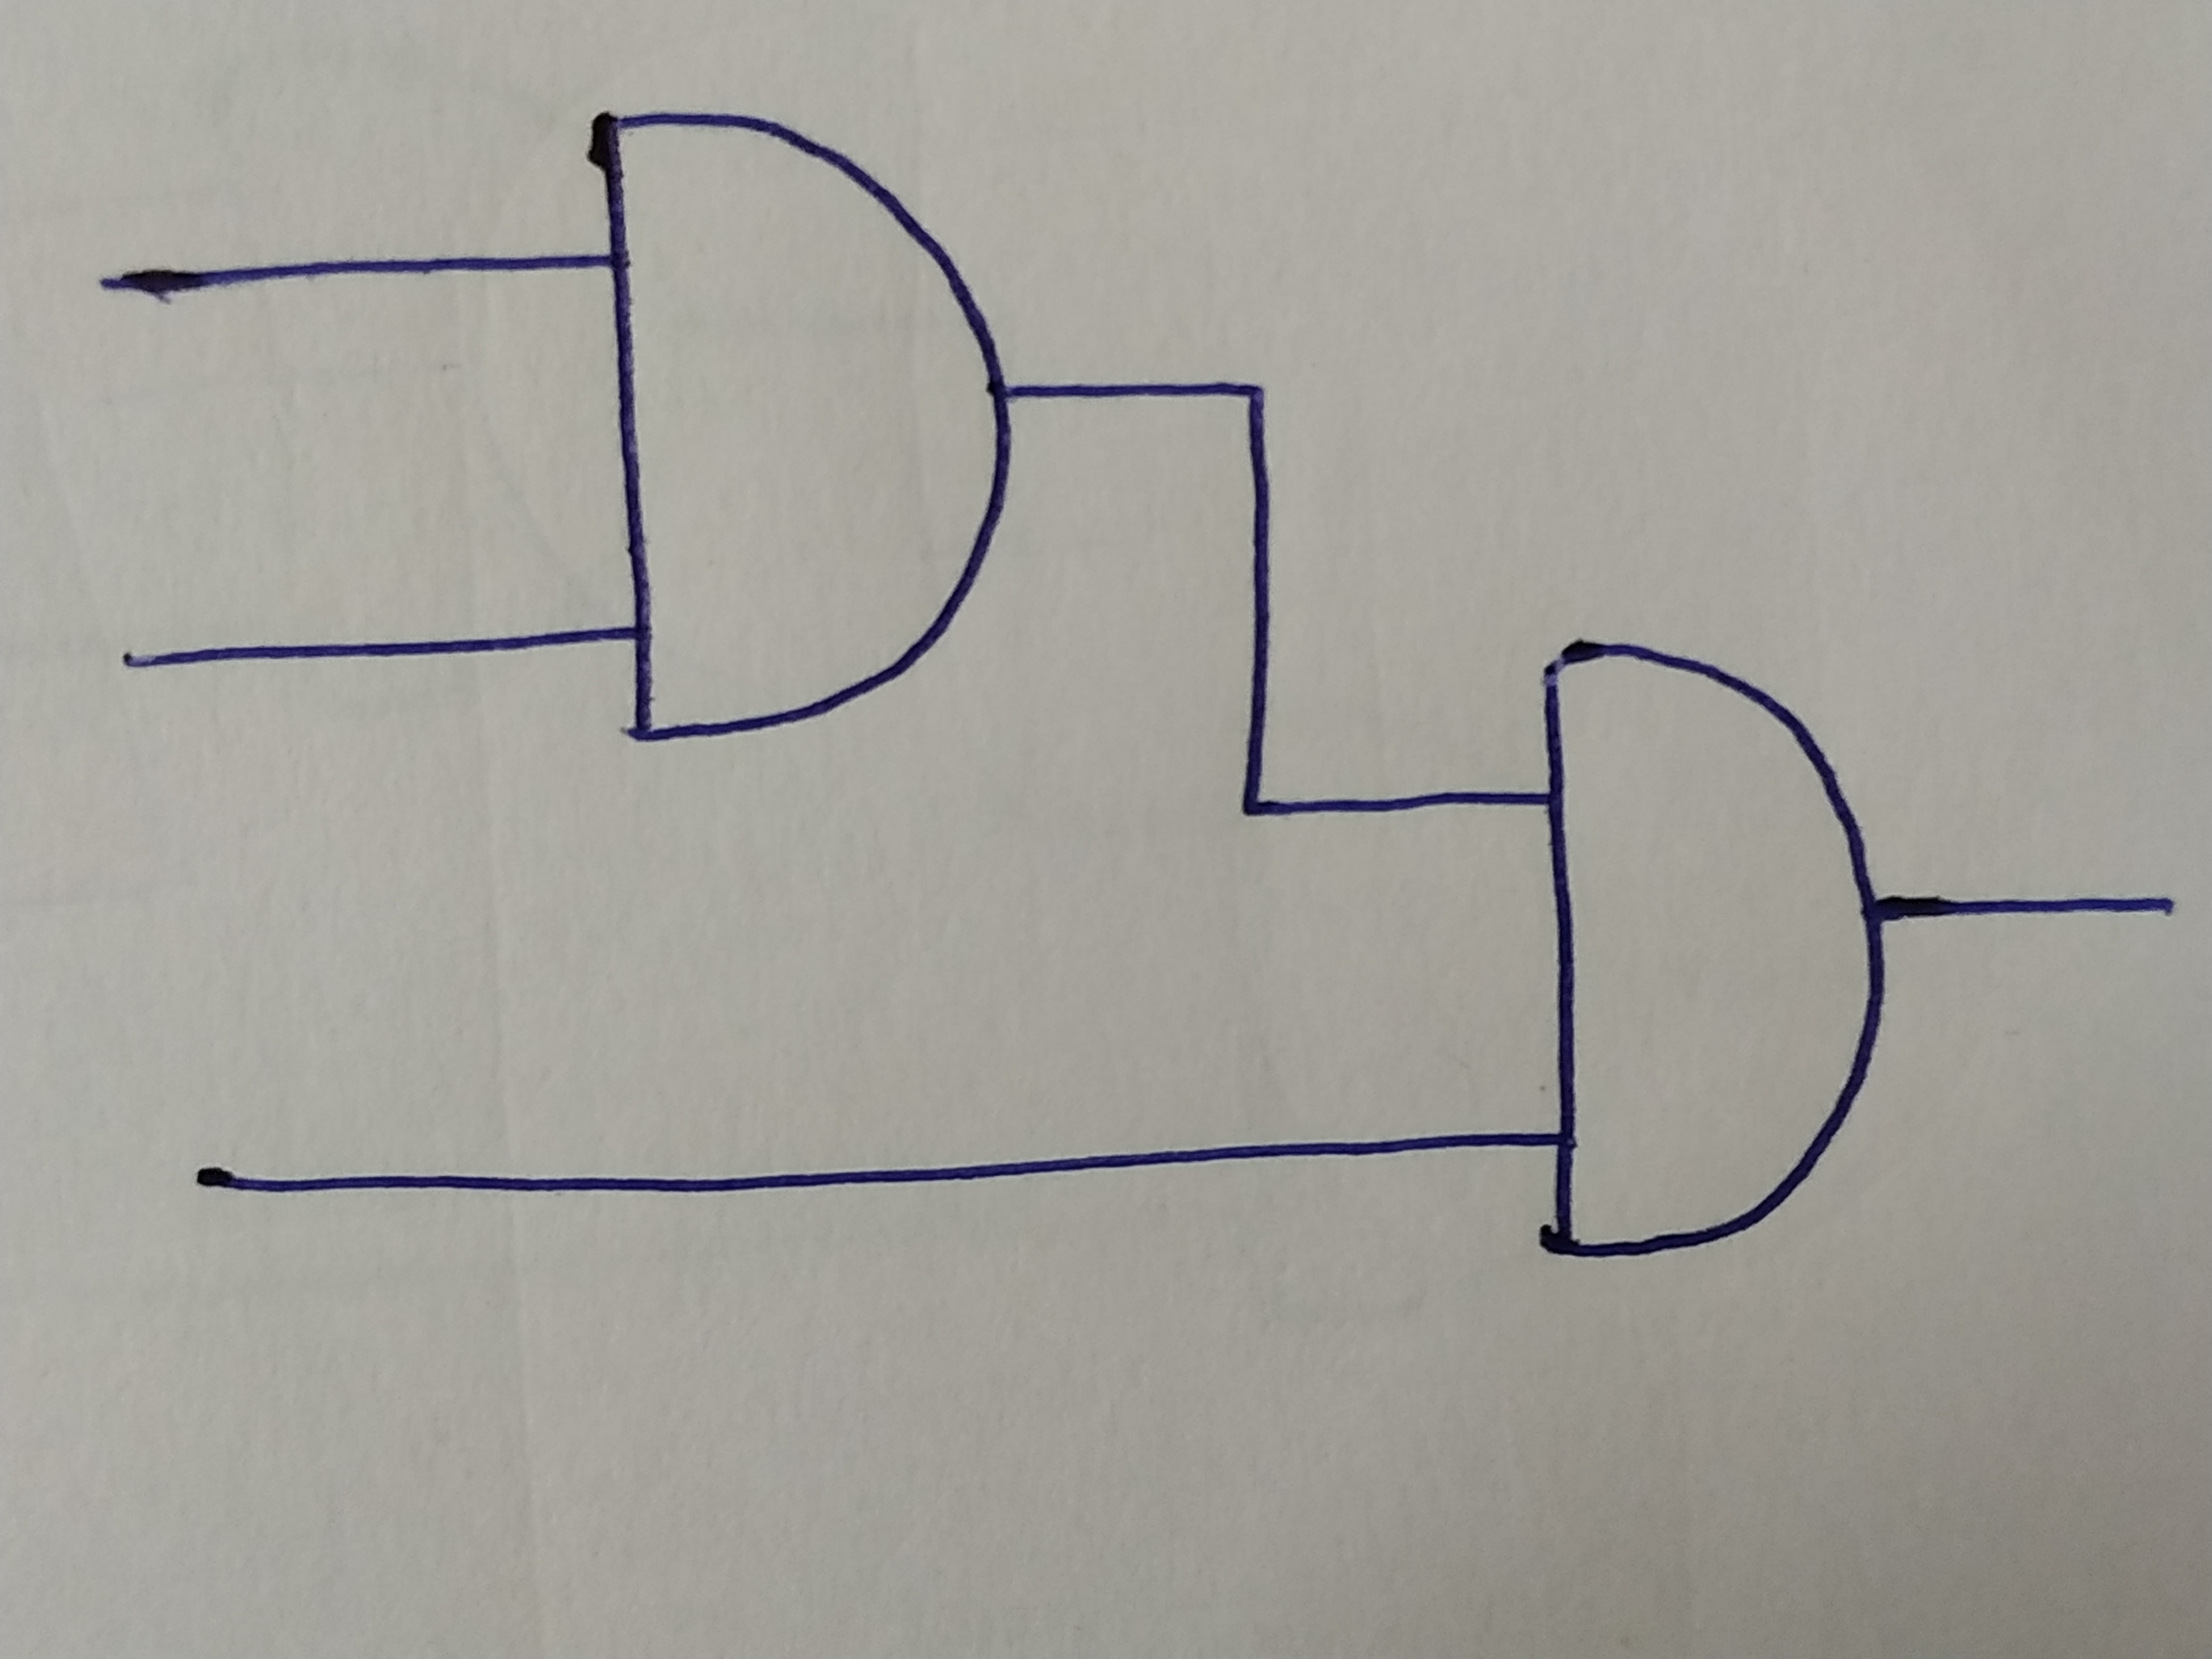and: (590, 112, 1010, 742), (1538, 645, 1885, 1260)
